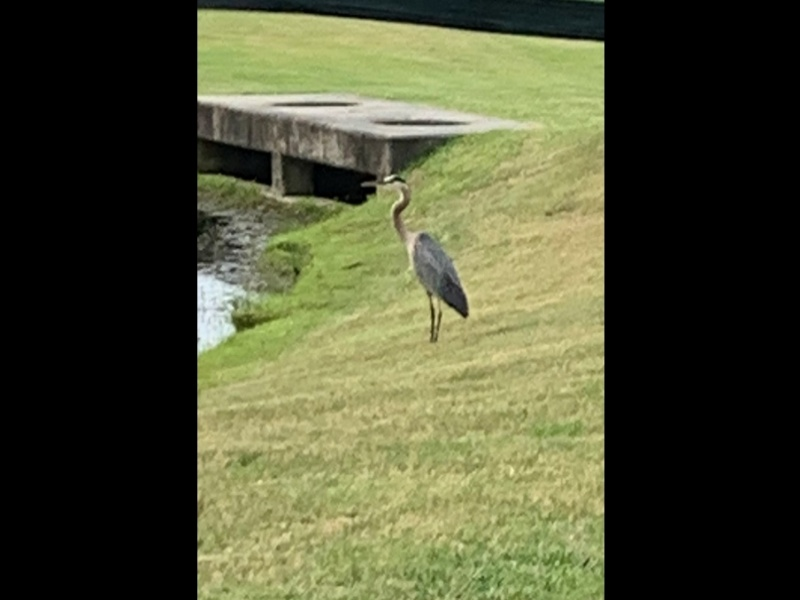heron: (366, 173, 472, 344)
